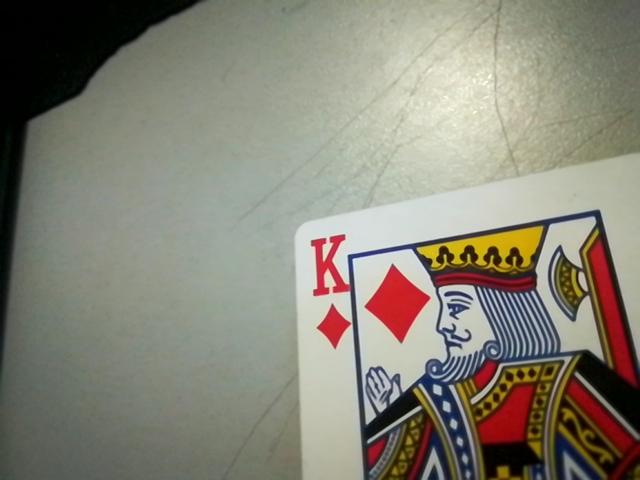fk k: (300, 230, 356, 347)
